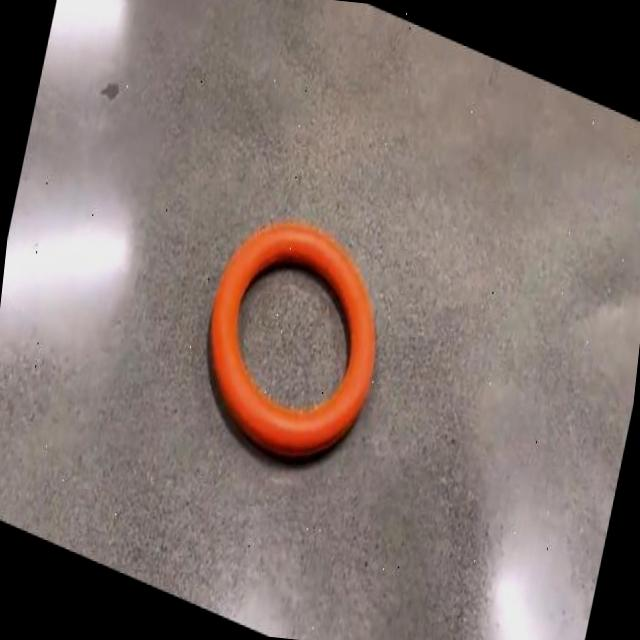note: (210, 221, 373, 455)
